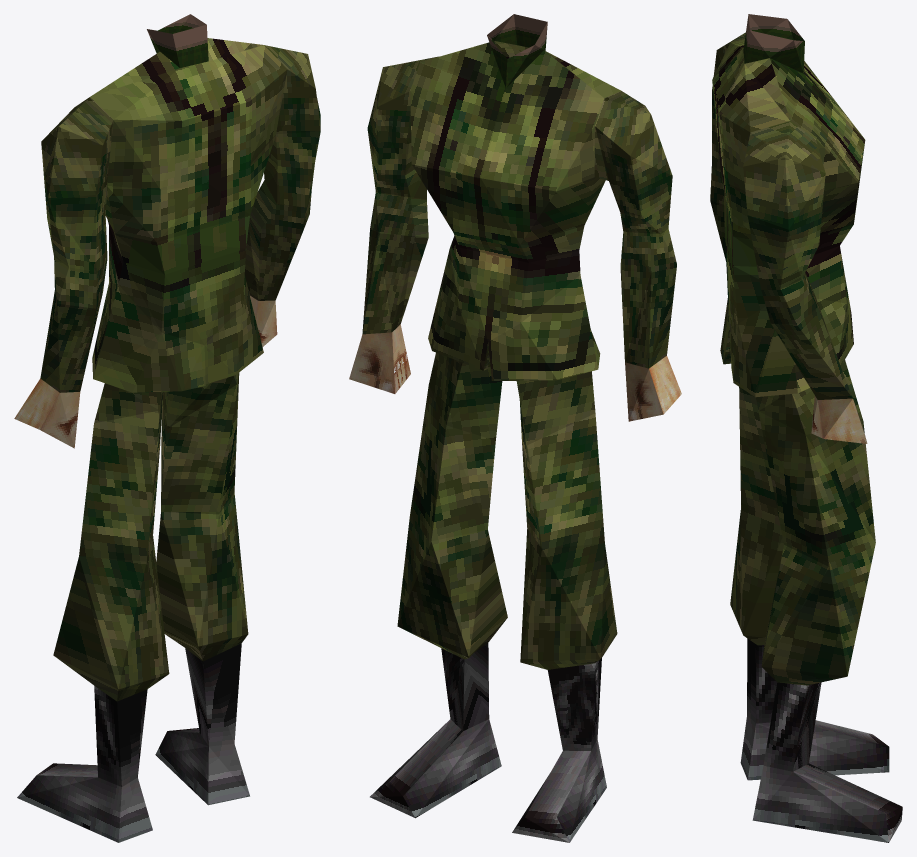
Rendered from primary_008.glb.
The picture shows the model from 3 angles, left to right: view 1: azimuth 30°, elevation 25°; view 2: azimuth 150°, elevation 25°; view 3: azimuth 270°, elevation 25°; orthographic projection. The views are drawn at different scales.
Parts seen in each view (by area): view 1: Object; view 2: Object; view 3: Object.
Part boxes in pixels (x1,y1,x2,y2): Object: [14, 14, 320, 842]; Object: [349, 14, 681, 842]; Object: [710, 14, 902, 842].
Size of the model in its own units: 0.7437 by 1.83 by 0.4098.
85 materials, 85 textured.
